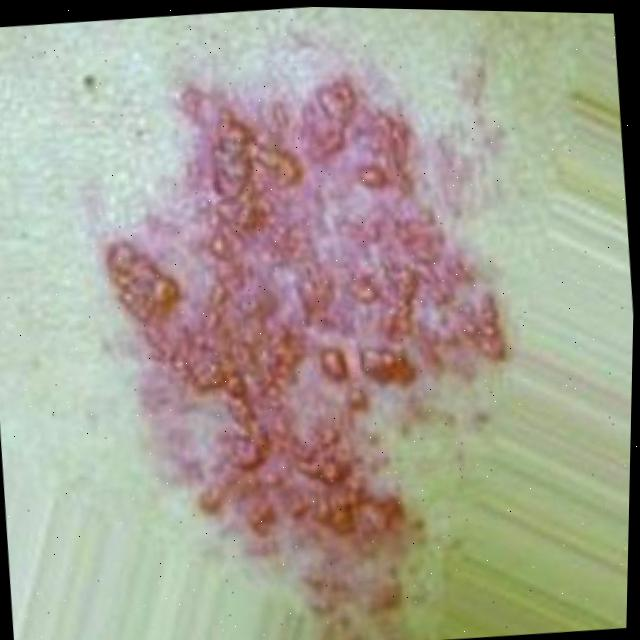Shingles: (88, 67, 539, 603)
